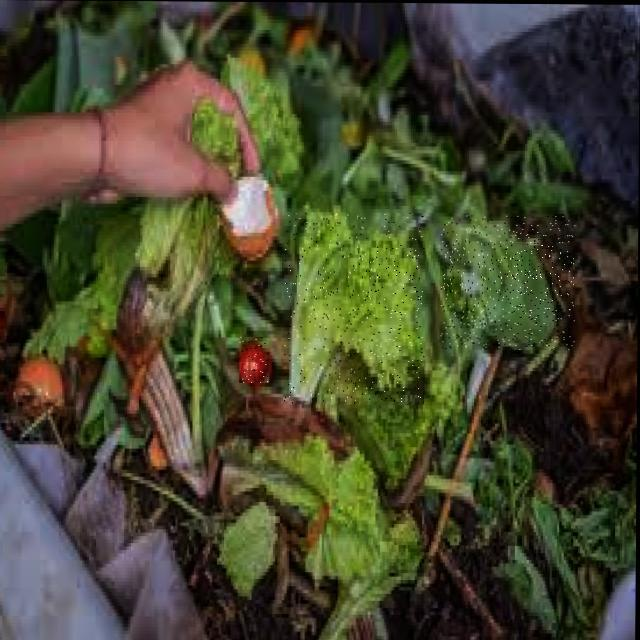other-trash: (2, 3, 635, 637)
